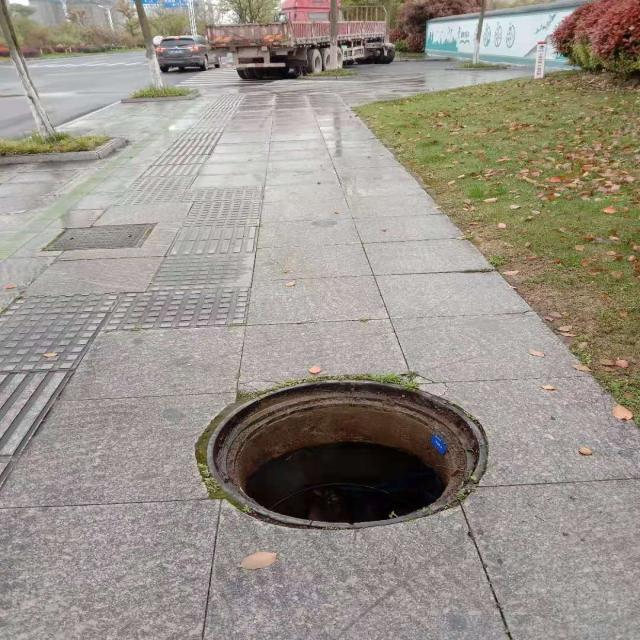Faulty: (204, 378, 486, 530)
Good: (42, 223, 156, 250)
